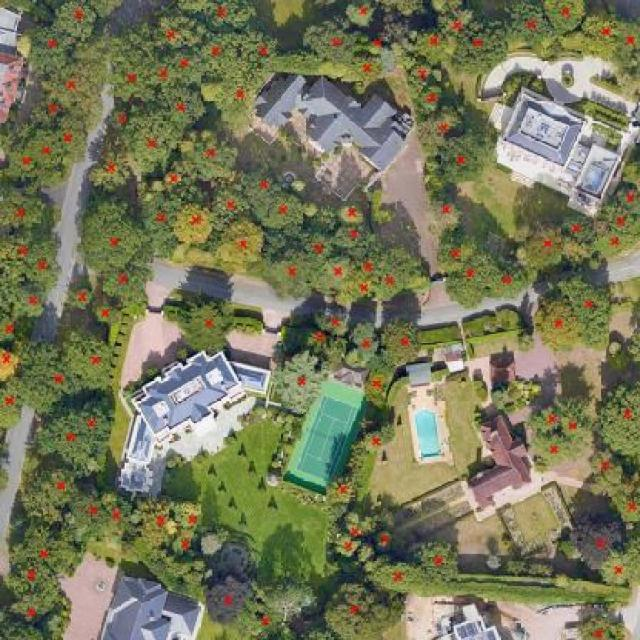tree: (78, 195, 144, 262), (323, 581, 388, 640), (592, 380, 640, 458), (20, 340, 74, 408), (565, 275, 616, 347), (39, 409, 96, 472), (0, 591, 71, 640), (373, 245, 433, 300), (279, 325, 352, 370), (574, 514, 628, 572), (454, 17, 508, 74), (276, 349, 322, 414), (128, 113, 179, 169), (445, 256, 497, 310), (218, 218, 264, 275), (303, 19, 363, 62), (536, 295, 579, 352), (206, 574, 251, 626), (182, 304, 231, 351), (179, 0, 259, 28), (45, 63, 96, 106), (138, 496, 180, 547), (72, 338, 113, 390), (441, 135, 485, 182), (0, 189, 48, 232), (73, 399, 116, 447), (98, 261, 151, 299), (32, 26, 76, 71), (270, 580, 313, 626), (159, 84, 206, 125), (53, 0, 98, 42), (371, 557, 418, 597), (384, 316, 422, 365), (141, 196, 184, 239), (268, 249, 311, 292), (417, 538, 461, 580), (191, 132, 235, 174), (156, 14, 210, 48), (106, 63, 154, 100), (0, 563, 63, 591), (511, 2, 551, 46), (27, 243, 62, 292), (524, 225, 565, 266), (22, 484, 62, 525), (28, 126, 67, 168), (260, 191, 305, 227), (40, 468, 82, 506), (220, 73, 263, 110), (173, 203, 216, 240), (0, 282, 46, 316), (428, 105, 463, 148), (198, 34, 240, 69), (375, 254, 403, 305), (86, 156, 132, 187), (242, 163, 275, 206), (532, 435, 576, 467), (52, 123, 90, 160), (240, 30, 278, 67), (11, 525, 46, 565), (488, 265, 529, 299), (592, 229, 640, 258), (99, 494, 136, 531), (583, 9, 620, 46), (209, 183, 246, 220), (109, 32, 153, 63), (269, 49, 320, 75), (349, 251, 392, 280), (436, 237, 476, 268), (547, 0, 584, 32), (603, 550, 634, 588), (577, 612, 618, 640), (591, 449, 622, 486), (74, 489, 103, 528), (615, 19, 640, 63), (414, 27, 452, 55), (527, 402, 561, 433), (428, 198, 462, 229), (320, 254, 351, 288), (72, 37, 108, 66), (47, 536, 73, 576), (353, 323, 379, 363), (306, 223, 329, 268), (326, 476, 359, 507), (147, 56, 178, 87), (366, 363, 388, 406), (0, 382, 20, 429), (33, 94, 62, 126), (602, 203, 635, 231), (249, 609, 280, 638), (563, 212, 592, 243), (351, 56, 382, 85), (562, 402, 583, 444), (177, 499, 205, 530), (443, 7, 474, 35), (339, 222, 367, 253), (313, 312, 352, 334), (2, 238, 33, 265), (343, 0, 375, 26), (407, 60, 433, 91), (174, 49, 197, 83), (420, 81, 443, 114), (617, 490, 640, 522), (345, 511, 373, 537), (36, 165, 67, 188), (351, 275, 375, 304), (0, 349, 22, 380), (614, 186, 640, 211), (337, 532, 361, 559), (11, 146, 35, 172), (379, 0, 422, 14), (68, 286, 94, 309), (200, 77, 220, 106), (490, 386, 513, 411), (0, 315, 18, 346), (0, 435, 9, 497), (199, 533, 223, 556), (174, 531, 197, 554), (362, 430, 385, 452), (342, 200, 364, 223), (162, 560, 190, 578), (94, 304, 118, 325), (373, 531, 398, 551), (362, 35, 384, 57), (621, 160, 640, 185), (358, 542, 378, 565), (432, 0, 463, 14), (518, 330, 535, 353), (484, 552, 504, 571), (110, 107, 128, 128), (164, 170, 182, 188), (530, 563, 553, 577), (509, 557, 525, 575), (559, 572, 566, 590)
